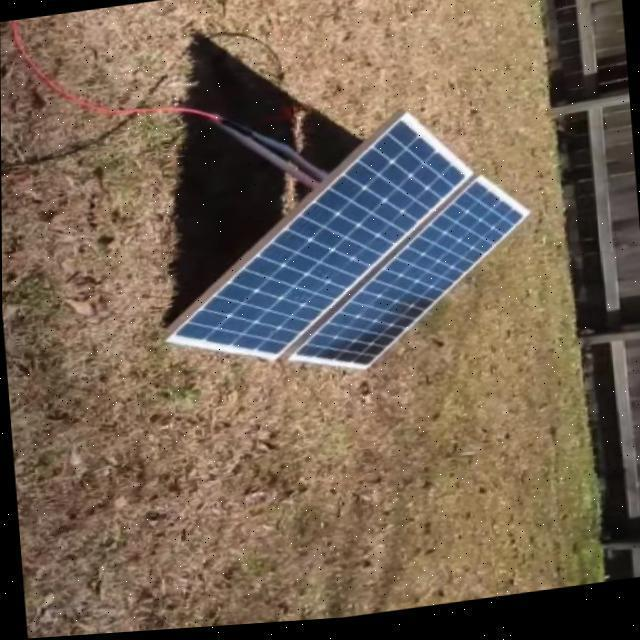Normal Solar Panel: (152, 110, 484, 376), (278, 180, 538, 384)
